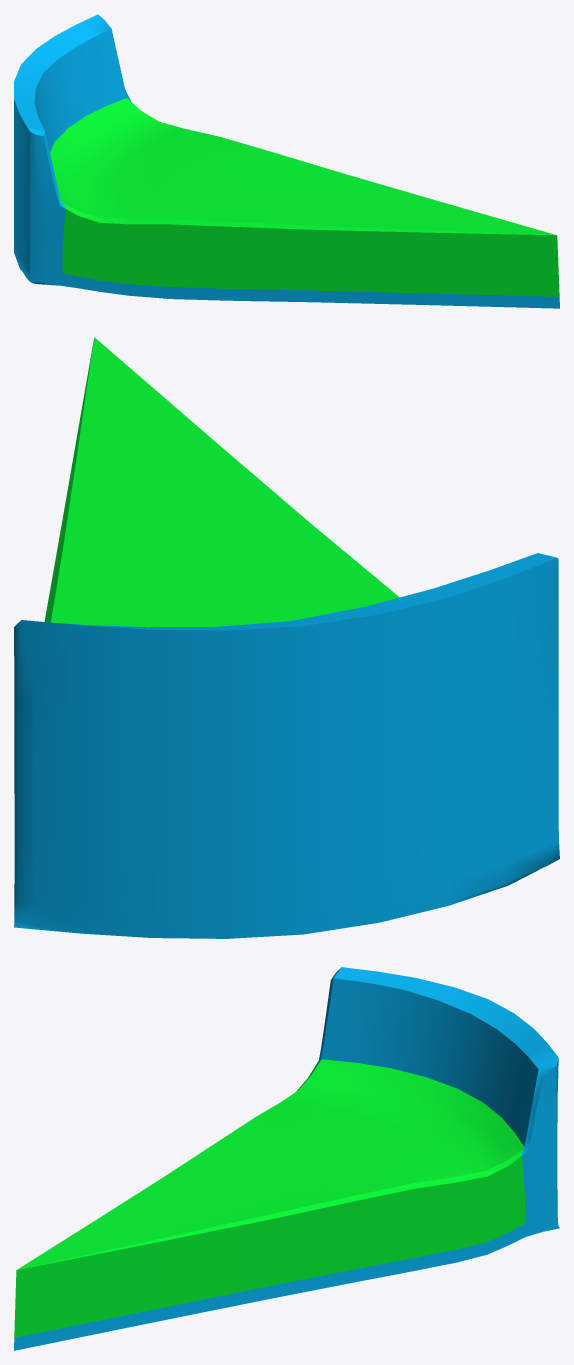
File: Flan_Model.FBX
The picture shows the model from 3 angles, top to bottom: view 1: azimuth 30°, elevation 25°; view 2: azimuth 150°, elevation 25°; view 3: azimuth 270°, elevation 25°; orthographic projection. The views are drawn at different scales.
Visible parts, largest first — view 1: FLan_Model; view 2: FLan_Model; view 3: FLan_Model.
Part boxes in pixels (x1,y1,x2,y2): FLan_Model: (14, 14, 559, 308); FLan_Model: (14, 337, 559, 938); FLan_Model: (14, 967, 559, 1350).
Bounding box in the file's own units: 16.12 × 6.7 × 18.21.
